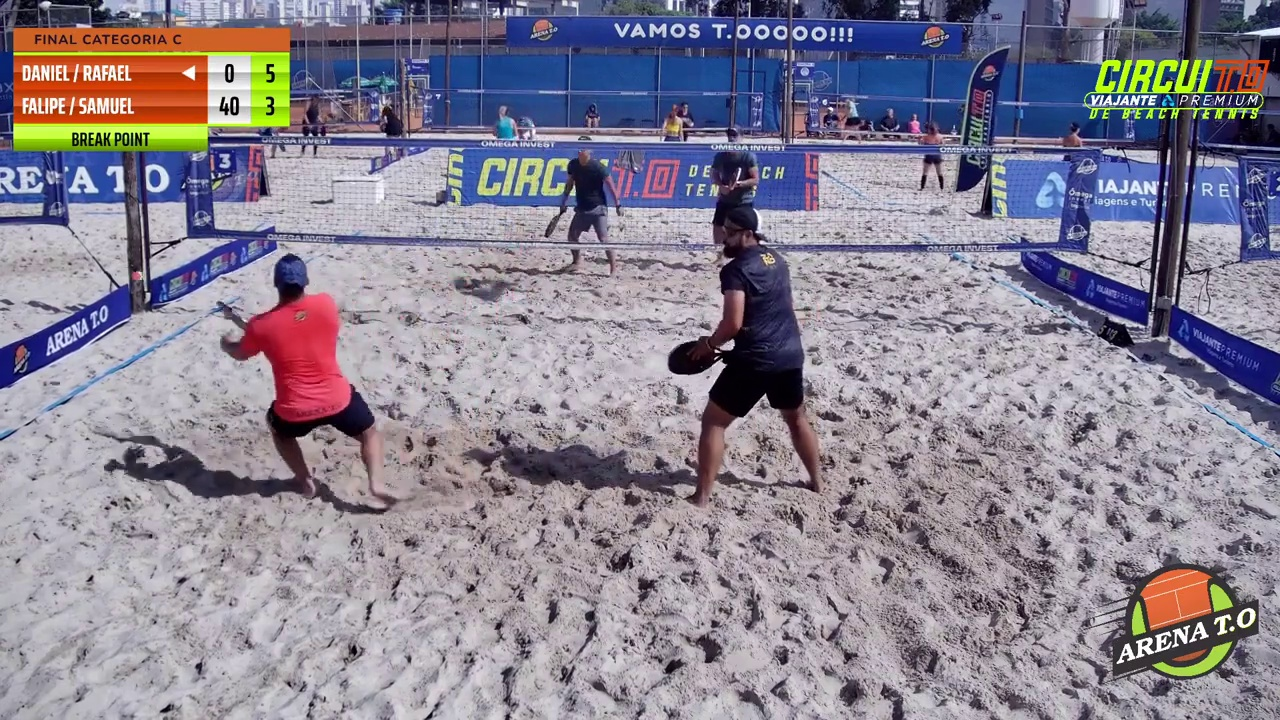court_line: (615, 0, 802, 511)
